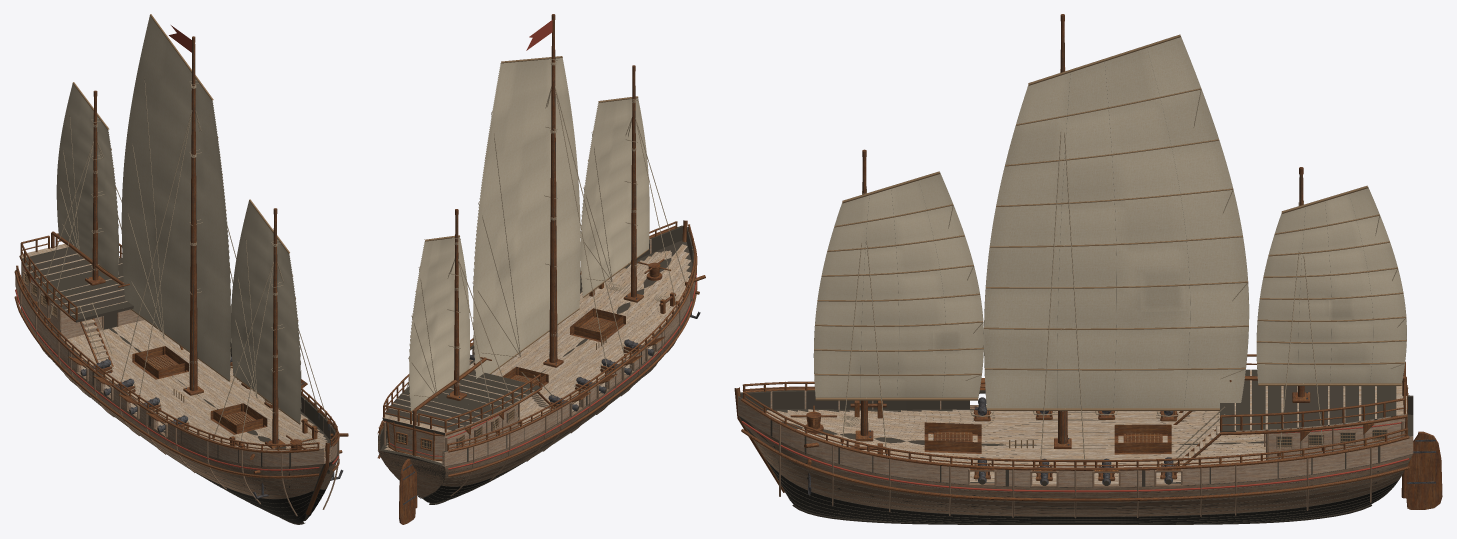
The model's file is fuchuan-lod0.glb.
3 views of the same model, side by side, from view 1: azimuth 30°, elevation 25°; view 2: azimuth 150°, elevation 25°; view 3: azimuth 270°, elevation 25° (orthographic). The views are drawn at different scales.
Parts seen in each view (by area): view 1: sail_1, hull, deck, sail_0, sail_2, shadow_deck, deck_fittings, bulwark_rails, mast_timber_1, shadow_hull, sterncastle, mast_timber_0 (+8 smaller); view 2: sail_1, deck, hull, sail_0, sail_2, shadow_deck, deck_fittings, bulwark_rails, shadow_hull, mast_timber_1, mast_timber_0, cargo_hold_coaming_5.8 (+10 smaller); view 3: sail_1, hull, sail_0, sail_2, deck, shadow_deck, shadow_hull, bulwark_rails, deck_fittings, rudder_blade, sterncastle, cargo_hold_coaming_-3.2 (+2 smaller).
Boxes of the visible parts, x1,y1,x2,y2 form: sail_1: (121,14,231,381); hull: (14,270,339,524); deck: (19,244,330,450); sail_0: (231,199,301,424); sail_2: (56,82,119,278); shadow_deck: (22,247,133,322); deck_fittings: (21,262,348,498); bulwark_rails: (16,233,338,452); mast_timber_1: (189,43,197,390); shadow_hull: (15,270,337,521); sterncastle: (23,266,144,339); mast_timber_0: (272,214,278,443); sail_1: (472,56,580,378); deck: (382,244,690,463); hull: (377,220,697,504); sail_0: (580,96,649,297); sail_2: (408,235,469,411); shadow_deck: (383,370,540,435); deck_fittings: (383,259,705,461); bulwark_rails: (378,221,695,451); shadow_hull: (378,225,695,502); mast_timber_1: (549,20,557,362); mast_timber_0: (631,71,636,297); cargo_hold_coaming_5.8: (570,308,625,342); sail_1: (984,34,1249,410); hull: (734,387,1413,524); sail_0: (813,171,983,400); sail_2: (1256,185,1406,386); deck: (766,369,1407,484); shadow_deck: (1220,369,1396,432); shadow_hull: (738,390,1413,523); bulwark_rails: (742,354,1408,467); deck_fittings: (790,385,1407,494); rudder_blade: (1406,431,1442,509); sterncastle: (1266,418,1404,460); cargo_hold_coaming_-3.2: (1114,424,1171,454).
Bounding box in the file's own units: 10.4 × 26.65 × 33.55.
Materials: 13 (8 with a texture image).
